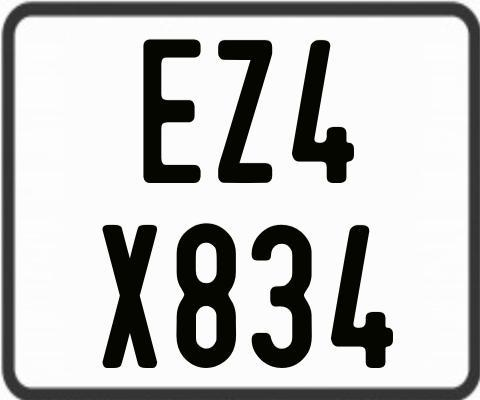3: (251, 223, 312, 368)
4: (330, 225, 397, 369), (292, 40, 355, 186)
8: (176, 220, 240, 365)
E: (143, 39, 201, 188)
X: (103, 225, 157, 373)
Z: (218, 40, 272, 188)
